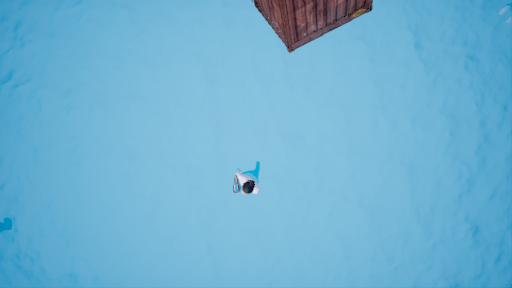person: (228, 158, 272, 205)
